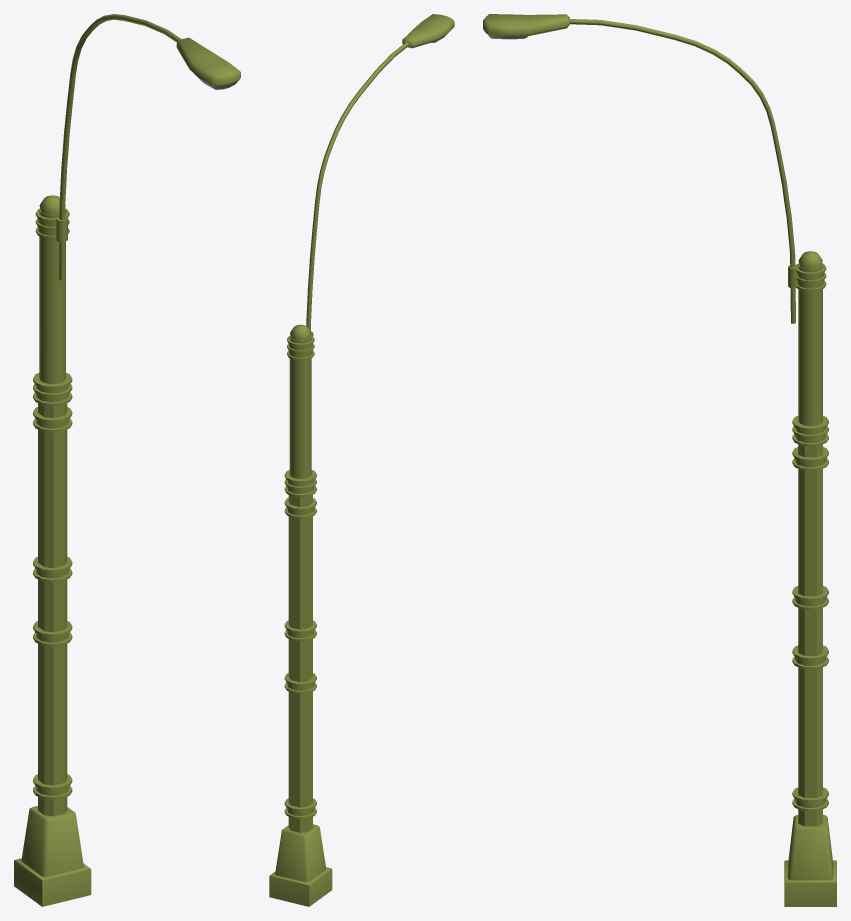
Rendered from light pole.FBX.
3 views of the same model, side by side, from view 1: azimuth 30°, elevation 25°; view 2: azimuth 150°, elevation 25°; view 3: azimuth 270°, elevation 25° (orthographic). The views are drawn at different scales.
Visible parts, largest first — view 1: Box02312143; view 2: Box02312143; view 3: Box02312143.
Boxes of the visible parts, bbox=[...] form: Box02312143: bbox=[14, 14, 240, 906]; Box02312143: bbox=[269, 14, 454, 906]; Box02312143: bbox=[483, 14, 836, 906].
Bounding box in the file's own units: 0.3876 × 7.18 × 2.62.
